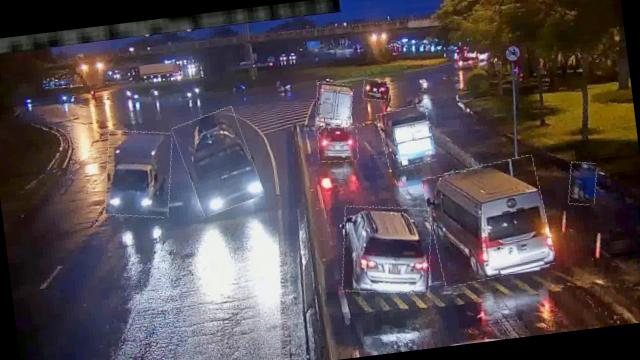Bike: (566, 160, 600, 206)
Car: (422, 156, 554, 286), (336, 199, 438, 300), (316, 123, 360, 164), (362, 77, 392, 102)
Truck: (175, 108, 261, 216), (98, 126, 178, 222), (378, 103, 436, 169), (311, 80, 356, 138)
